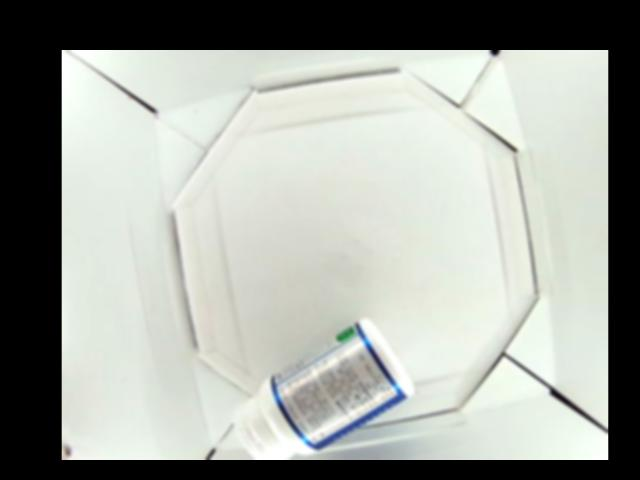Bottle: (232, 319, 416, 459)
